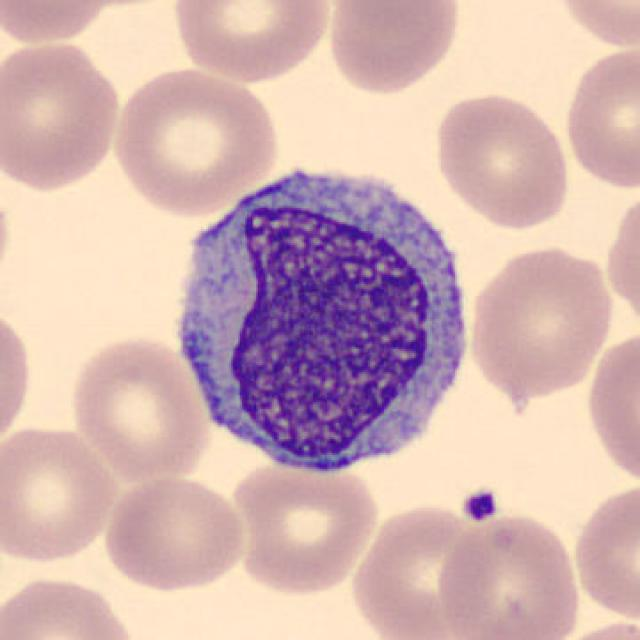Monocyte: (165, 159, 477, 483)
Platelets: (459, 483, 501, 525)
RBC: (106, 64, 282, 218), (464, 242, 617, 400), (66, 331, 212, 485), (224, 457, 382, 598), (347, 499, 501, 638), (430, 88, 574, 231), (433, 509, 583, 640), (0, 35, 124, 193), (100, 473, 250, 594), (0, 421, 121, 568), (171, 0, 334, 85), (324, 0, 466, 97), (560, 42, 638, 192), (567, 480, 640, 624), (0, 571, 142, 640), (582, 326, 638, 490), (602, 183, 640, 336), (0, 300, 36, 453), (0, 0, 117, 47), (551, 0, 638, 51), (546, 617, 640, 640), (0, 169, 16, 300)
